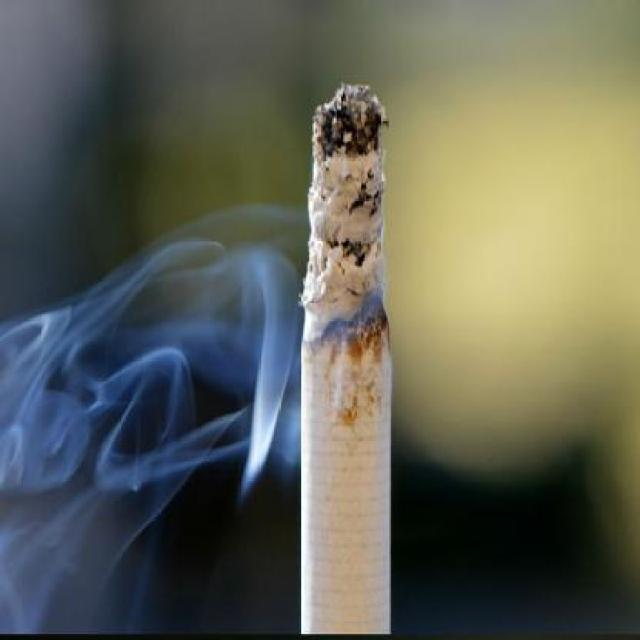trash: (302, 83, 392, 640)
